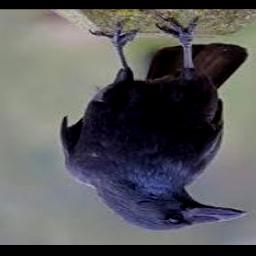Crow: (61, 15, 250, 231)
